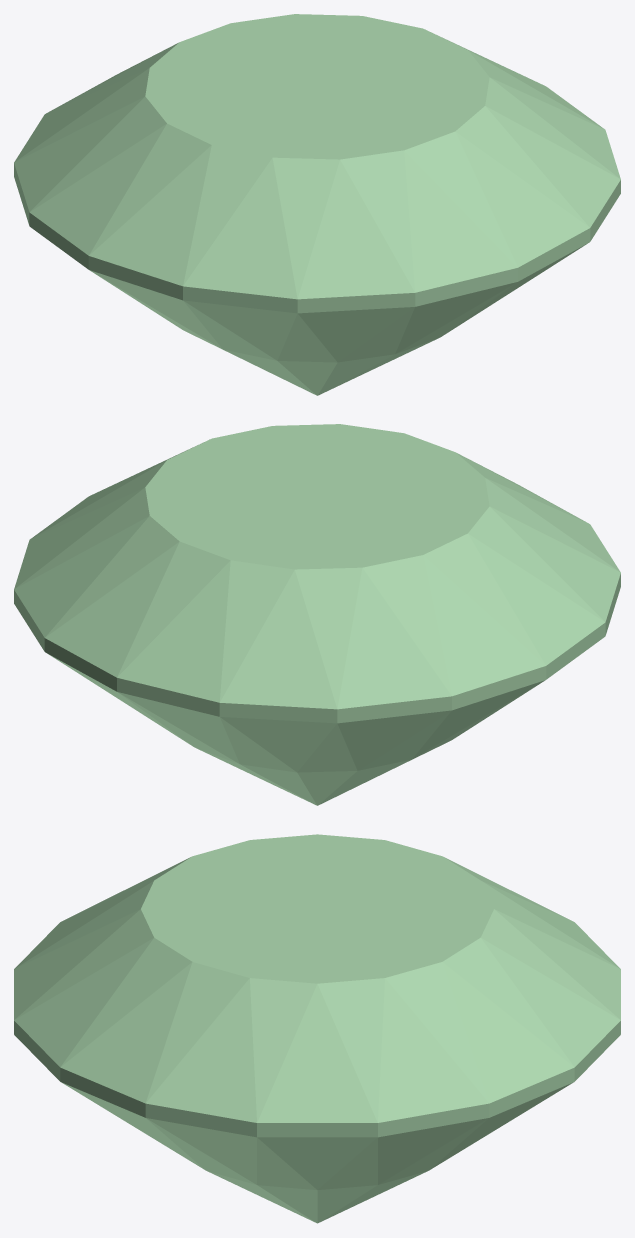
Rendered from demantoid.glb.
The picture shows the model from 3 angles, top to bottom: view 1: azimuth 30°, elevation 25°; view 2: azimuth 150°, elevation 25°; view 3: azimuth 270°, elevation 25°; orthographic projection.
Visible parts, largest first — view 1: demantoid; view 2: demantoid; view 3: demantoid.
Boxes of the visible parts, box(x1,y1,x2,y2) form: demantoid: box(14, 14, 620, 395); demantoid: box(14, 424, 620, 805); demantoid: box(14, 834, 620, 1223).
Bounding box in the file's own units: 0.25 × 0.1429 × 0.25.
